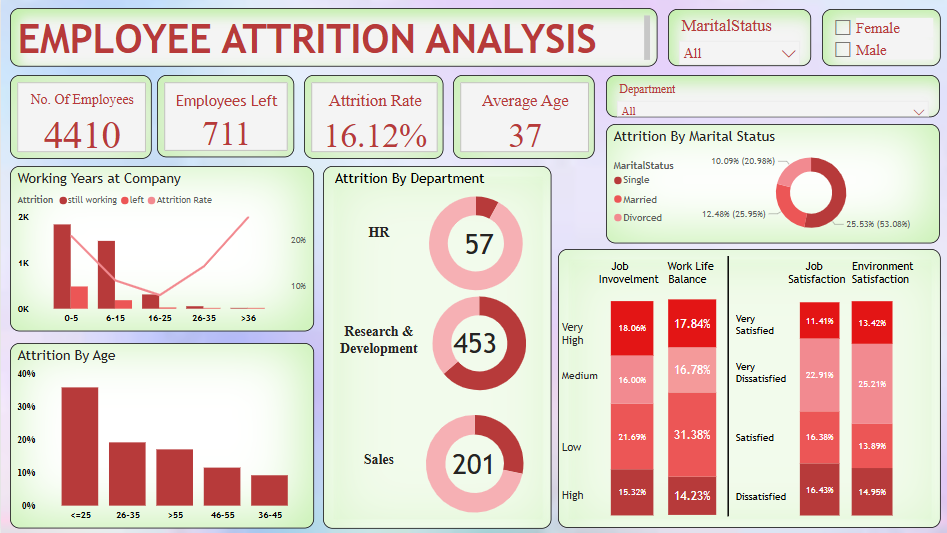

The dashboard page shown, as its layout file describes it:
{"tool":"powerbi","page":{"name":"Page 2","canvas":[1280,720],"ordinal":1},"visuals":[{"type":"columnChart","title":"Attrition By Age","fields":{"Category":["hr_attrition.Age bar"],"Y":["hr_attrition.Attrition Rate"]},"box":[11.8,463.6,409.9,250.3],"z":0},{"type":"textbox","box":[11.8,11.8,873.5,79],"z":1000},{"type":"slicer","fields":{"Values":["hr_attrition.Department"]},"box":[816.4,102.5,450.2,57.1],"z":2000},{"type":"slicer","fields":{"Values":["hr_attrition.Gender"]},"box":[1107,13.4,159.6,77.3],"z":3000},{"type":"slicer","fields":{"Values":["hr_attrition.MaritalStatus"]},"box":[898.7,13.4,193.2,77.3],"z":4000},{"type":"cardVisual","fields":{"Data":["Sum(hr_attrition.EmployeeCount)"]},"box":[11.8,102.5,191.5,112.5],"z":5000},{"type":"cardVisual","fields":{"Data":["hr_attrition.Total attrition"]},"box":[210,102.5,184.8,110.9],"z":6000},{"type":"cardVisual","fields":{"Data":["hr_attrition.attritionrate"]},"box":[406,101.8,205.1,112.9],"z":7000},{"type":"shape","box":[433.6,225.7,308.3,488.6],"z":8000},{"type":"cardVisual","fields":{"Data":["hr_attrition.Avgage"]},"box":[620.7,101.8,180.3,112.9],"z":9000},{"type":"lineClusteredColumnComboChart","title":"Working Years at Company","fields":{"Category":["hr_attrition.Years at company"],"Y2":["hr_attrition.attritionrate"],"Series":["hr_attrition.Attrition"],"Y":["CountNonNull(hr_attrition.Attrition)"]},"box":[11.8,225.1,409.9,223.4],"z":10000},{"type":"donutChart","title":"Attrition By Marital Status","fields":{"Y":["hr_attrition.Attrition Rate"],"Series":["hr_attrition.MaritalStatus"]},"box":[816.2,167.9,450.1,161],"z":11000},{"type":"donutChart","title":"Attrition By Marital Status","fields":{"Y":["hr_attrition.hr dep","hr_attrition.remaining hr"]},"box":[497.2,245.2,285.6,168],"z":12000},{"type":"donutChart","title":"Attrition By Marital Status","fields":{"Y":["hr_attrition.R&D dep","hr_attrition.remaining R&D"]},"box":[502.3,379.6,283.9,168],"z":13000},{"type":"donutChart","title":"Attrition By Marital Status","fields":{"Y":["hr_attrition.sales dep","hr_attrition.remaining sales"]},"box":[497.2,539.2,282.2,174.7],"z":14000},{"type":"textbox","box":[445.1,225.1,248.6,42],"z":15000},{"type":"textbox","box":[448.5,267.1,120.9,423.3],"z":16000},{"type":"card","fields":{"Values":["hr_attrition.hr dep"]},"box":[599.7,297.3,89,62.1],"z":17000},{"type":"card","fields":{"Values":["hr_attrition.R&D dep"]},"box":[594.6,431.7,89,62.1],"z":18000},{"type":"card","fields":{"Values":["hr_attrition.sales dep"]},"box":[593,594.6,89,62.1],"z":19000},{"type":"shape","box":[750.9,337.6,515.7,376.3],"z":20000},{"type":"columnChart","fields":{"Y":["hr_attrition.Attrition Rate"],"Series":["hr_attrition.environment satisfaction"]},"box":[1073.5,385.4,206.4,313.8],"z":21000},{"type":"columnChart","fields":{"Y":["hr_attrition.Attrition Rate"],"Series":["hr_attrition.job satisfaction"]},"box":[985.5,385.4,220.2,313.8],"z":22000},{"type":"columnChart","fields":{"Y":["hr_attrition.Attrition Rate"],"Series":["hr_attrition.work life balance"]},"box":[792.8,359.2,262.9,340],"z":23000},{"type":"columnChart","fields":{"Y":["hr_attrition.Attrition Rate"],"Series":["hr_attrition.job involvement"]},"box":[725.7,359.5,235.2,339.3],"z":24000},{"type":"textbox","box":[801,346.8,479,52.3],"z":25000},{"type":"textbox","box":[751.5,412.9,64.7,286.3],"z":26000},{"type":"textbox","box":[985.5,401.9,86.7,297.3],"z":27000},{"type":"shape","box":[834.1,346.8,291.8,351],"z":28000}]}

Visuals, with their boxes in screenshot pixels (x1, y1, x2, y2), scaled from the page's 1280x720 canvas onto the 947x533 screenshot:
"Attrition By Age" columnChart: 9,343,312,528
textbox: 9,9,655,67
slicer - hr_attrition.Department: 604,76,937,118
slicer - hr_attrition.Gender: 819,10,937,67
slicer - hr_attrition.MaritalStatus: 665,10,808,67
cardVisual - Sum(hr_attrition.EmployeeCount): 9,76,150,159
cardVisual - hr_attrition.Total attrition: 155,76,292,158
cardVisual - hr_attrition.attritionrate: 300,75,452,159
shape: 321,167,549,529
cardVisual - hr_attrition.Avgage: 459,75,593,159
"Working Years at Company" lineClusteredColumnComboChart: 9,167,312,332
"Attrition By Marital Status" donutChart: 604,124,937,243
"Attrition By Marital Status" donutChart: 368,182,579,306
"Attrition By Marital Status" donutChart: 372,281,582,405
"Attrition By Marital Status" donutChart: 368,399,577,528
textbox: 329,167,513,198
textbox: 332,198,421,511
card - hr_attrition.hr dep: 444,220,510,266
card - hr_attrition.R&D dep: 440,320,506,366
card - hr_attrition.sales dep: 439,440,505,486
shape: 556,250,937,528
columnChart - hr_attrition.Attrition Rate x hr_attrition.environment satisfaction: 794,285,946,518
columnChart - hr_attrition.Attrition Rate x hr_attrition.job satisfaction: 729,285,892,518
columnChart - hr_attrition.Attrition Rate x hr_attrition.work life balance: 587,266,781,518
columnChart - hr_attrition.Attrition Rate x hr_attrition.job involvement: 537,266,711,517
textbox: 593,257,946,295
textbox: 556,306,604,518
textbox: 729,298,793,518
shape: 617,257,833,517
